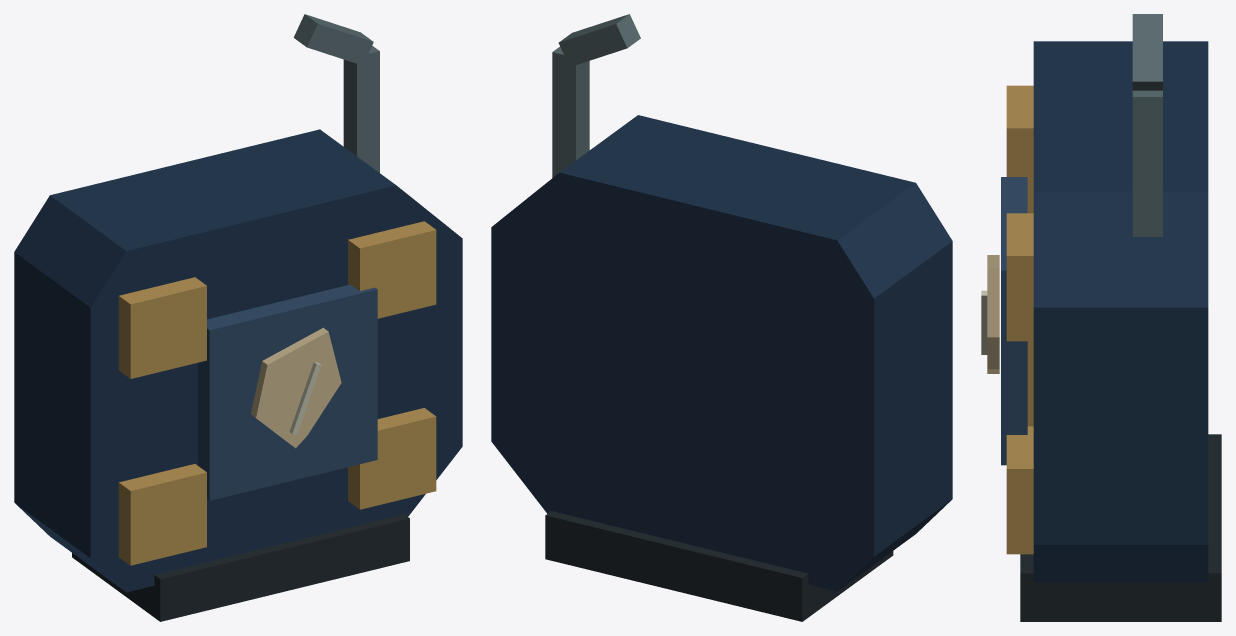
File: REVIVE_TOKEN.shadow.glb
3 views of the same model, side by side, from view 1: azimuth 30°, elevation 25°; view 2: azimuth 150°, elevation 25°; view 3: azimuth 270°, elevation 25° (orthographic). The views are drawn at different scales.
Parts seen in each view (by area): view 1: Body_Mesh; view 2: Body_Mesh; view 3: Body_Mesh.
Part boxes in pixels (x1,y1,x2,y2): Body_Mesh: (14, 14, 462, 621); Body_Mesh: (491, 14, 952, 621); Body_Mesh: (981, 14, 1221, 621).
Bounding box in the file's own units: 0.73 × 0.9598 × 0.3583.
